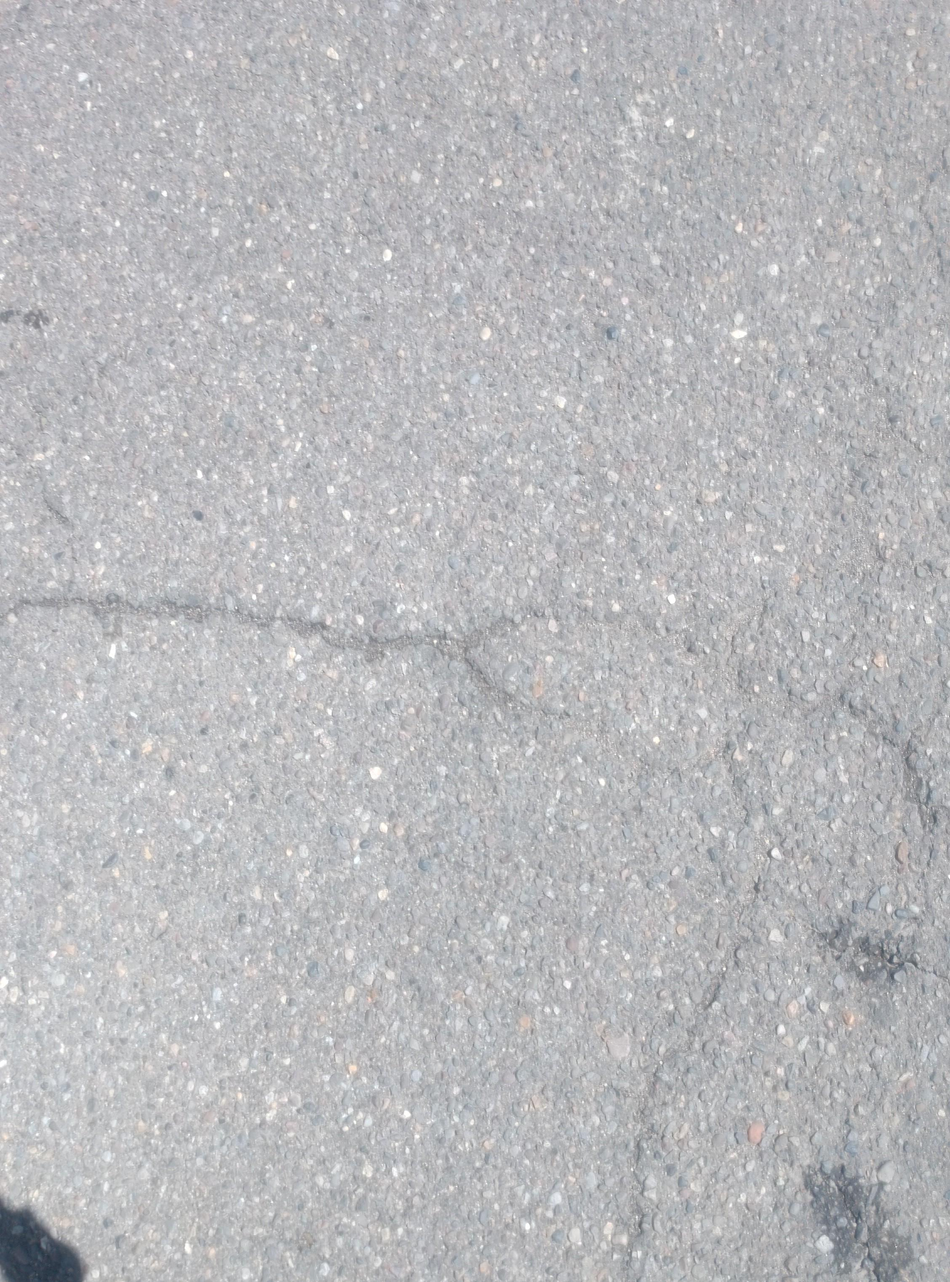GRIETA: (463, 606, 935, 835), (0, 597, 621, 757), (617, 828, 774, 1282), (817, 1173, 884, 1282)
